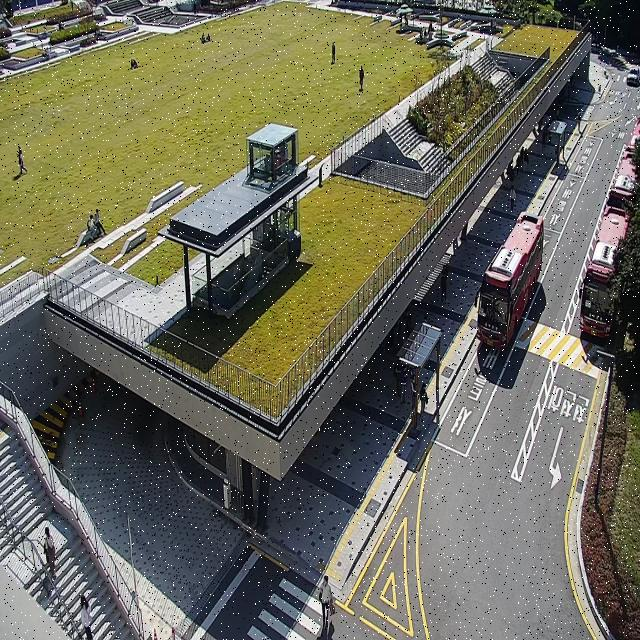queue: (412, 316, 440, 434)
